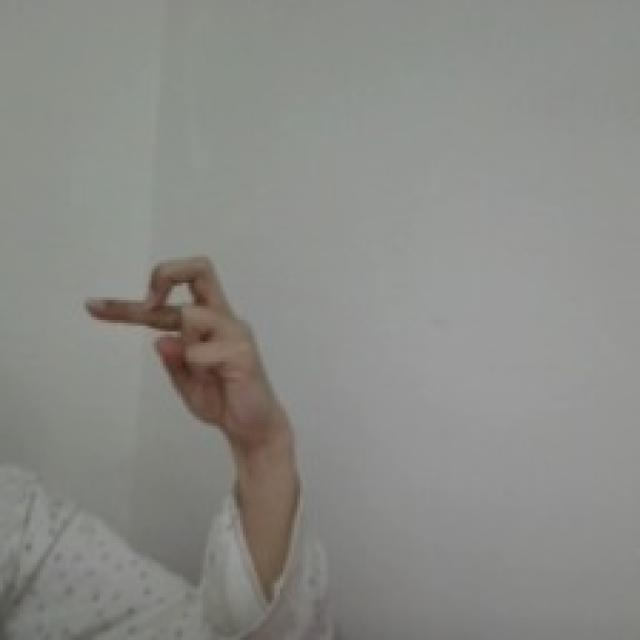sunday: (77, 246, 276, 444)
